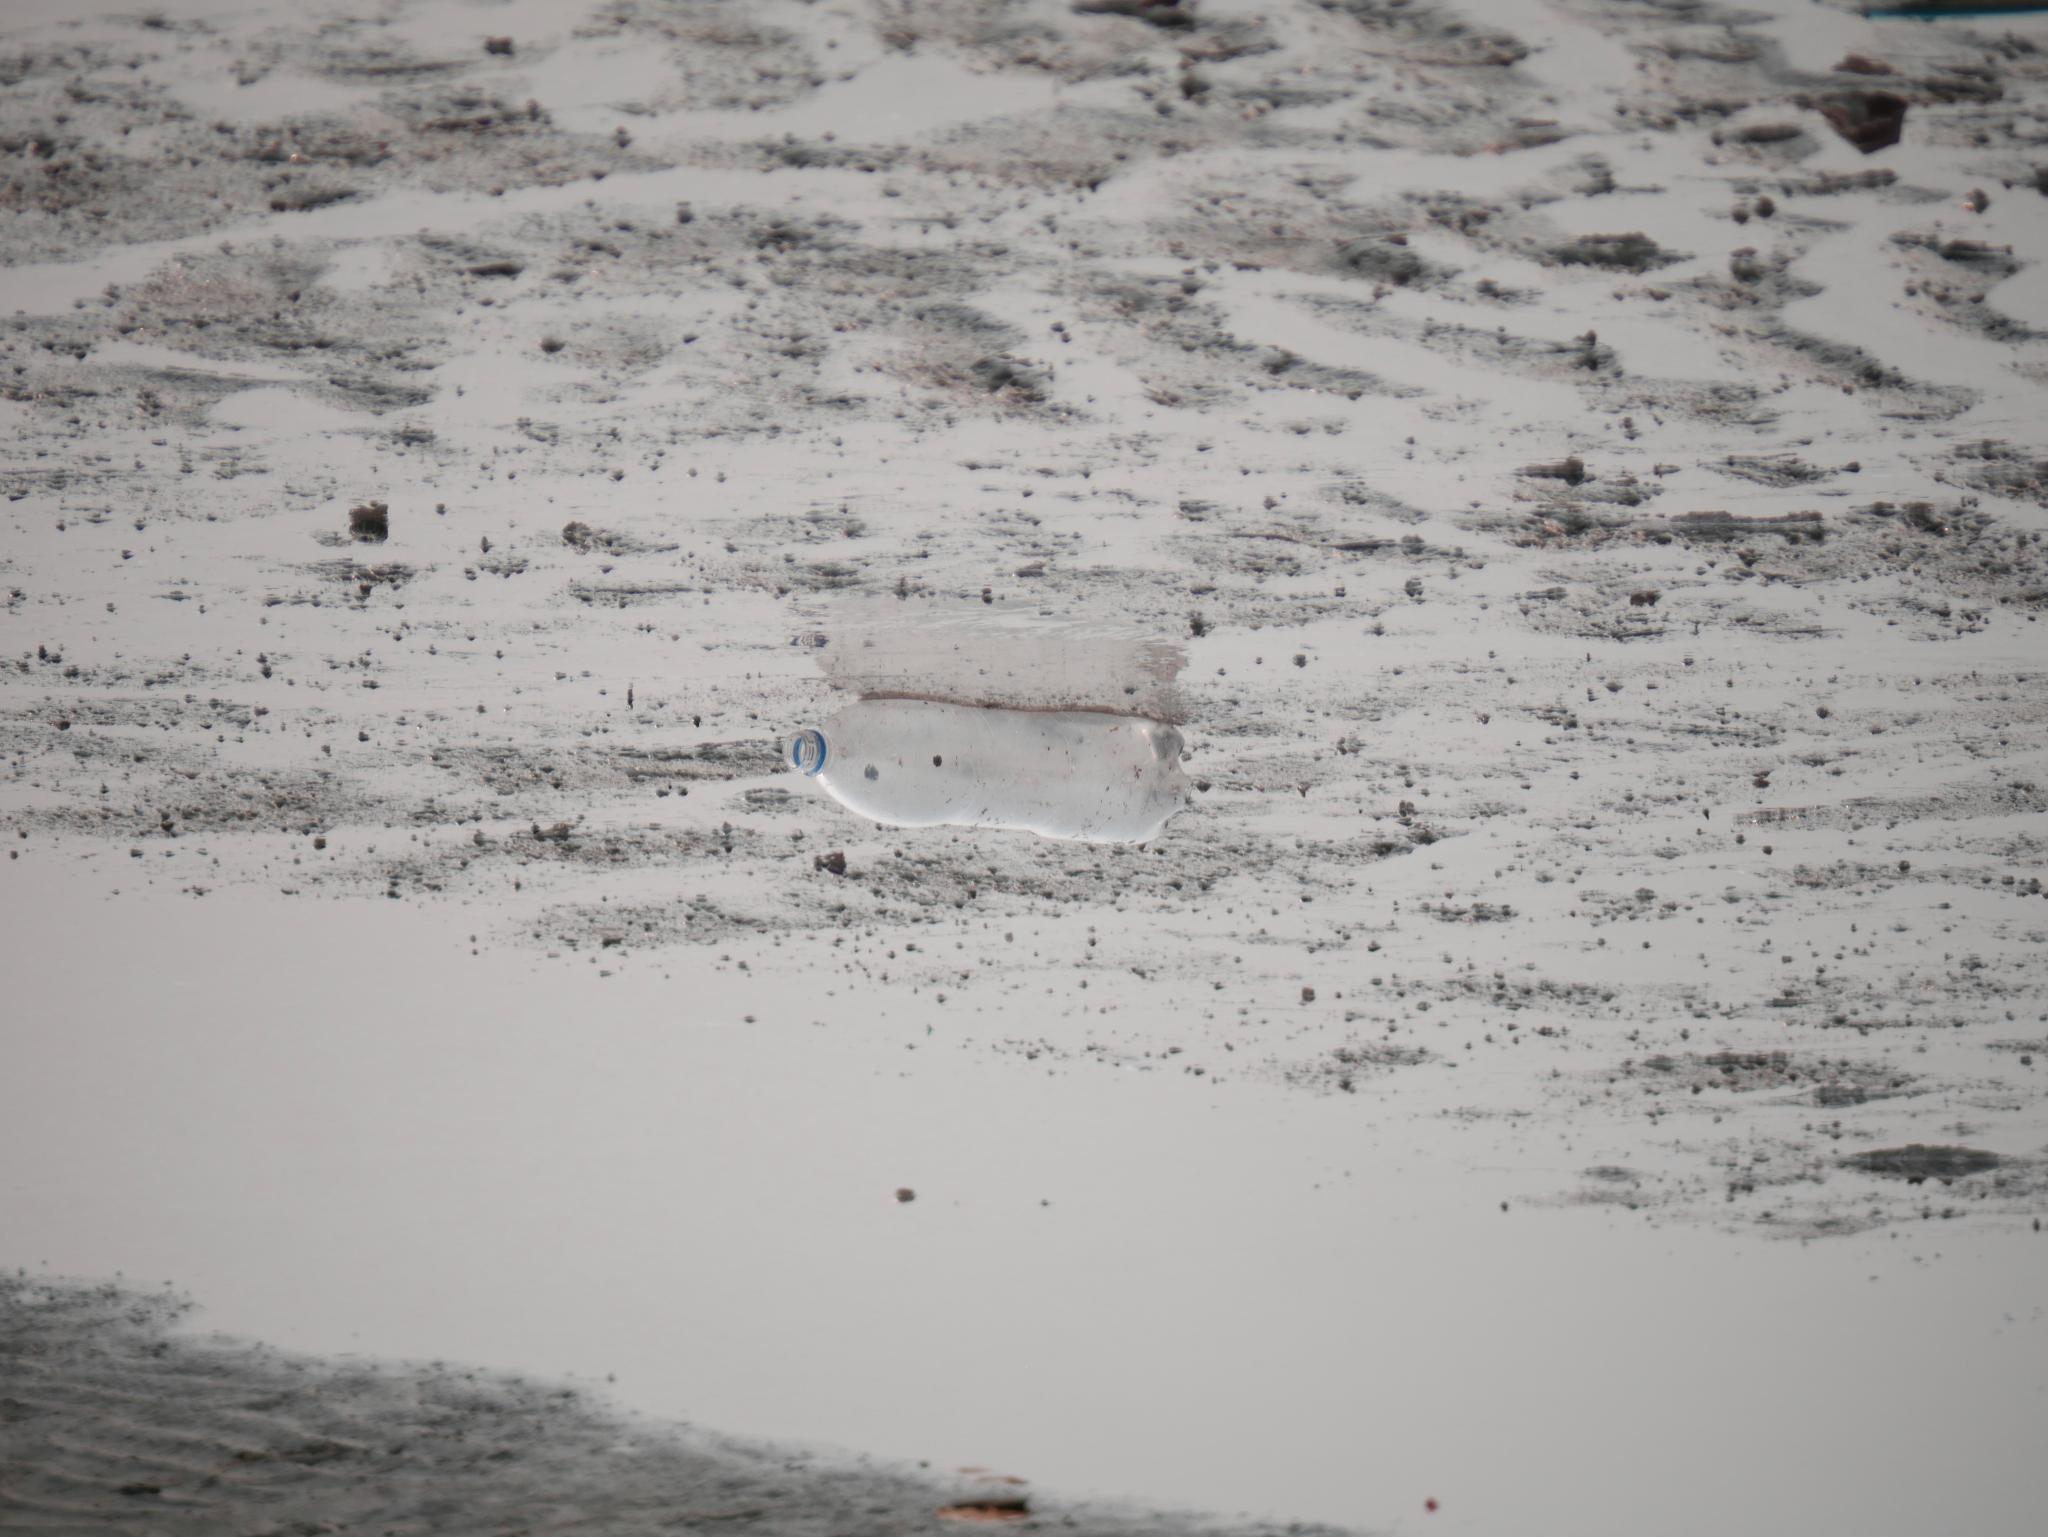Plastic: (728, 638, 1231, 903)
